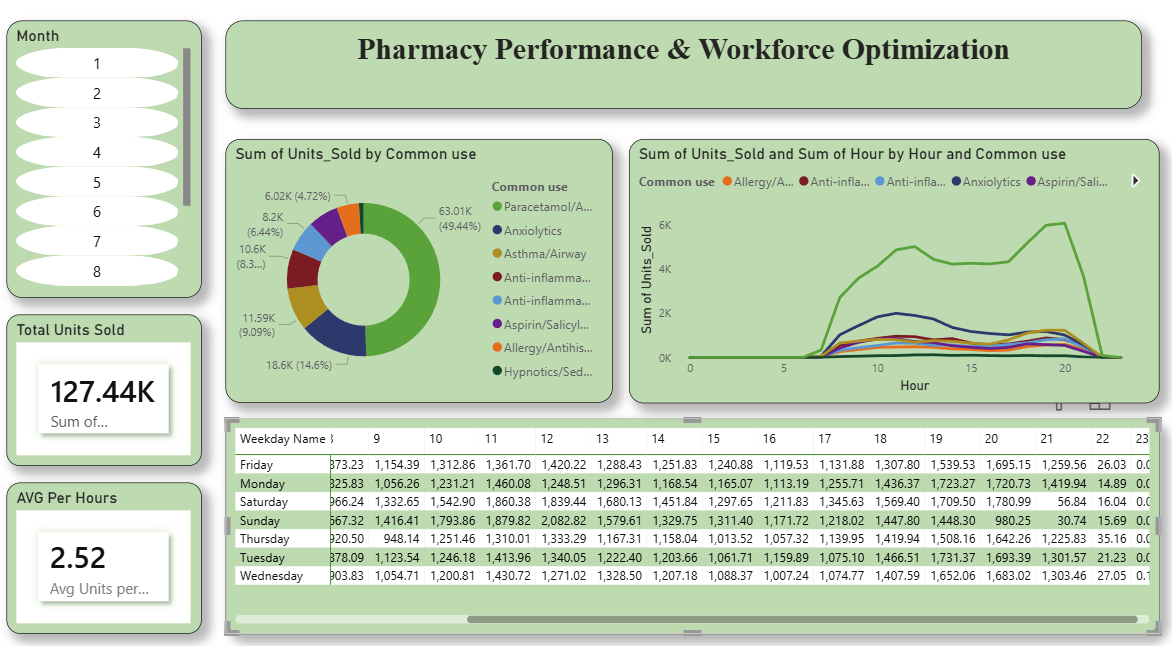

The page's visual inventory and layout, read from the dashboard file:
{"tool":"powerbi","page":{"name":"Page 1","canvas":[1280,720],"ordinal":0},"visuals":[{"type":"pivotTable","fields":{"Rows":["Dim_Dates.Weekday Name"],"Columns":["Dim_Dates.Hour"],"Values":["Sum(Fact_Sales.Units_Sold)"]},"box":[254.2,466.3,1008.8,233.2],"z":0},{"type":"donutChart","fields":{"Y":["Sum(Fact_Sales.Units_Sold)"],"Category":["Dim_Products.Common use"]},"box":[254.2,165.2,417.8,285],"z":1000},{"type":"lineChart","fields":{"Series":["Dim_Products.Common use"],"Y":["Sum(Fact_Sales.Units_Sold)"],"Category":["Dim_Dates.datum.Variation.Date Hierarchy.Year","Dim_Dates.Hour"]},"box":[689.8,164.4,572.6,285.4],"z":2000},{"type":"actionButton","box":[0,25.9,17.8,14.6],"z":3000},{"type":"cardVisual","title":"AVG Per Hours","fields":{"Data":["Fact_Sales.Avg Units per Hour"]},"box":[17.8,536,210.5,163.5],"z":4000},{"type":"cardVisual","title":"Total Units Sold","fields":{"Data":["Sum(Fact_Sales.Units_Sold)"]},"box":[17.8,354.6,210.5,163.5],"z":5000},{"type":"listSlicer","fields":{"Values":["Dim_Dates.Month"]},"box":[17.8,37.2,210.5,299.6],"z":6000},{"type":"textbox","box":[254.2,37.2,989.3,95.5],"z":7000}]}

Visuals, with their boxes in screenshot pixels (x1, y1, x2, y2), scaled from the page's 1280x720 canvas onto the 1172x646 screenshot:
pivotTable - Dim_Dates.Weekday Name x Dim_Dates.Hour: box=[233, 418, 1156, 628]
donutChart - Sum(Fact_Sales.Units_Sold) x Dim_Products.Common use: box=[233, 148, 615, 404]
lineChart - Dim_Products.Common use x Sum(Fact_Sales.Units_Sold): box=[632, 148, 1156, 404]
actionButton: box=[0, 23, 16, 36]
"AVG Per Hours" cardVisual: box=[16, 481, 209, 628]
"Total Units Sold" cardVisual: box=[16, 318, 209, 465]
listSlicer - Dim_Dates.Month: box=[16, 33, 209, 302]
textbox: box=[233, 33, 1139, 119]
